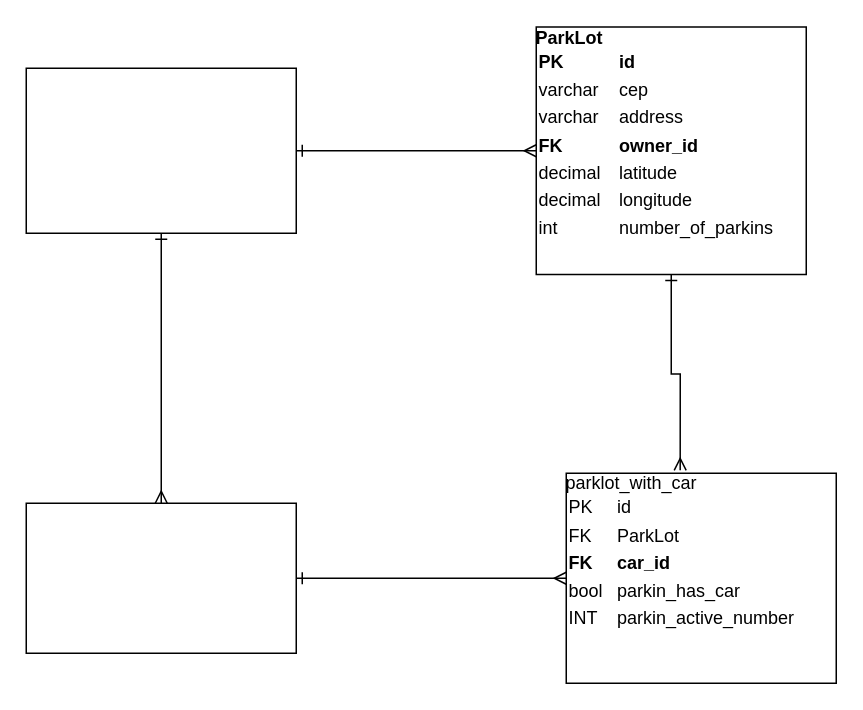
The diagram is 863 pixels wide and 710 high, and some of its shapes have lost their labels. The centre of each missing label's shape, as x and y in pixels:
"Car PK id varchar car_modeld varchar car_code FK owner_id" goes at (160,577).
"User PK id varchar username varchar email varchar password" goes at (160,150).
